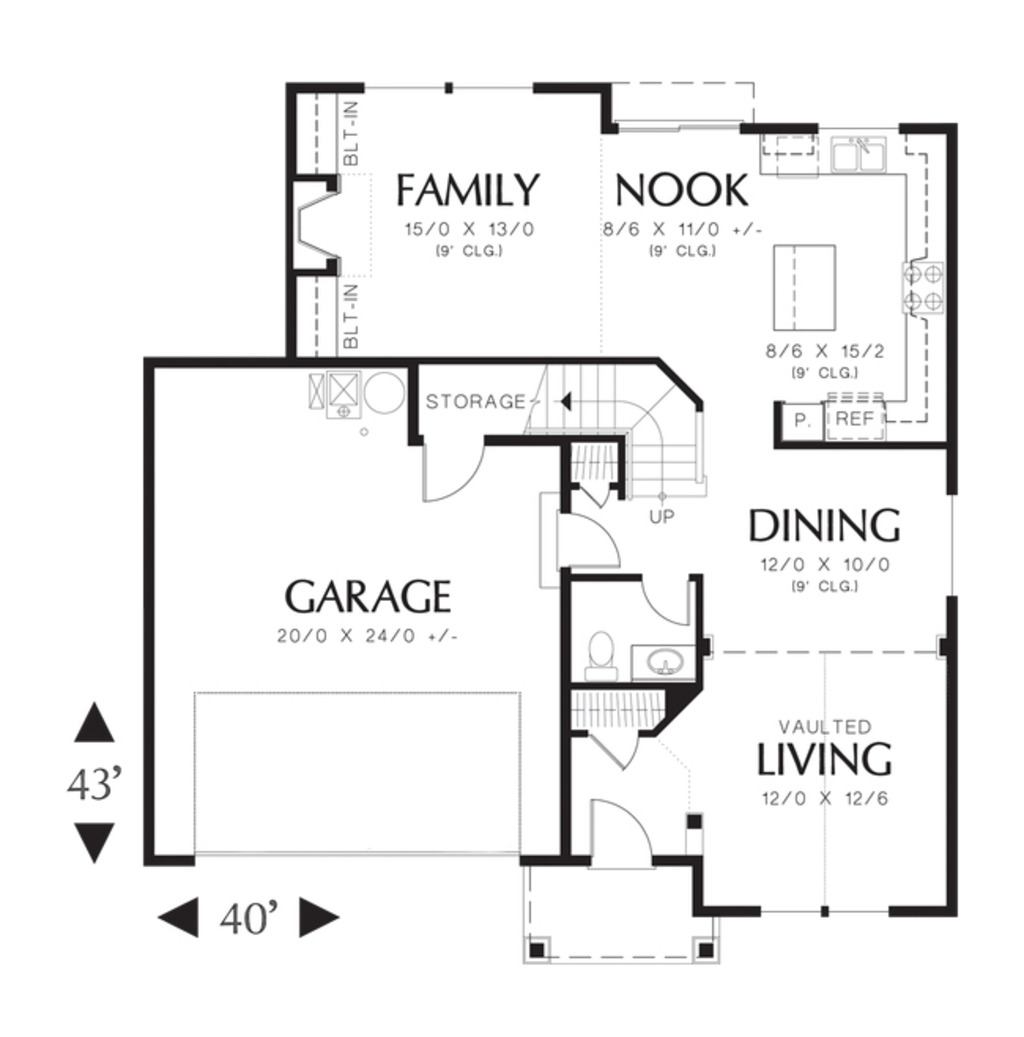door: (407, 424, 492, 512), (583, 788, 658, 875), (549, 509, 628, 578), (631, 569, 697, 625), (592, 730, 646, 772)
large_sink: (573, 619, 620, 680)
small_sink: (625, 632, 708, 690)
stairs: (517, 356, 739, 508)
twin_sink: (812, 116, 904, 178)
window: (938, 478, 970, 604), (763, 906, 888, 920)
